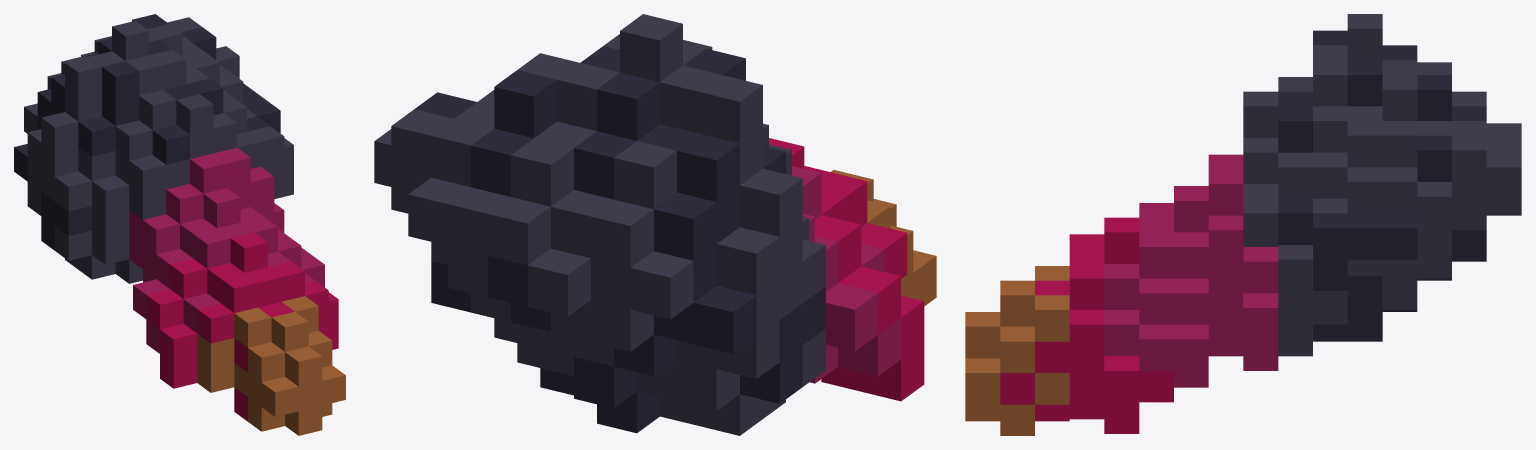
File: cometas-0.obj
3 views of the same model, side by side, from view 1: azimuth 30°, elevation 25°; view 2: azimuth 150°, elevation 25°; view 3: azimuth 270°, elevation 25° (orthographic). The views are drawn at different scales.
Bounding box in the file's own units: 0.9 × 1.2 × 1.6.
1 material, 1 textured.
